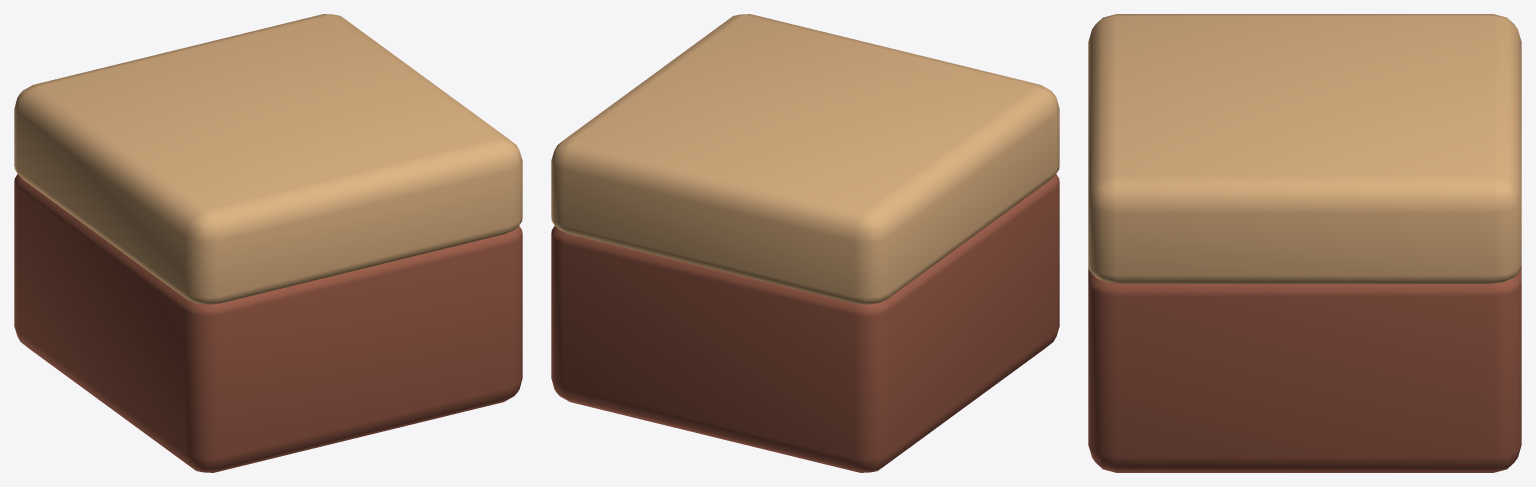
The model's file is tileMedium_desert-col.glb.
3 views of the same model, side by side, from view 1: azimuth 30°, elevation 25°; view 2: azimuth 150°, elevation 25°; view 3: azimuth 270°, elevation 25° (orthographic). The views are drawn at different scales.
Visible parts, largest first — view 1: tileMedium_desert-col; view 2: tileMedium_desert-col; view 3: tileMedium_desert-col.
Part boxes in pixels (<box>): tileMedium_desert-col: <box>14,14,522,472</box>; tileMedium_desert-col: <box>551,14,1059,472</box>; tileMedium_desert-col: <box>1088,14,1521,472</box>.
Bounding box in the file's own units: 2 × 1.5 × 2.
